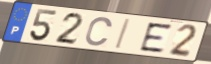2: (53, 12, 87, 47), (168, 23, 199, 58)
5: (28, 7, 59, 43)
C: (83, 16, 114, 48)
E: (138, 22, 174, 54)
I: (113, 17, 133, 51)
